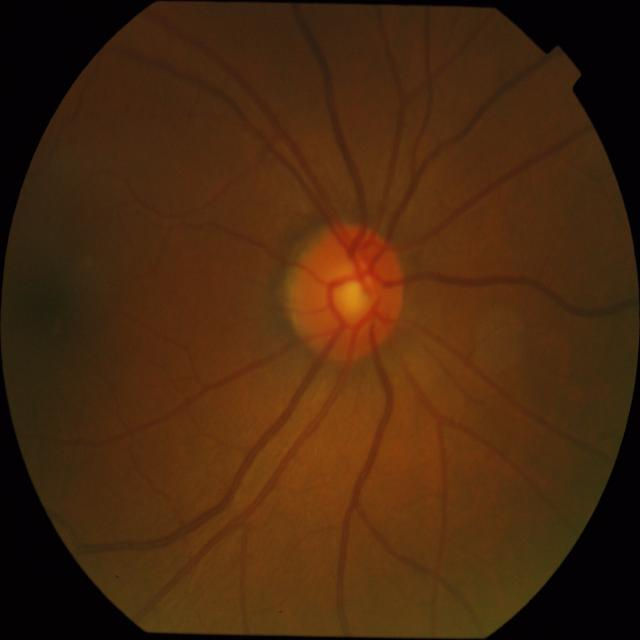OC: (314, 248, 382, 329)
OD: (291, 224, 406, 361)
